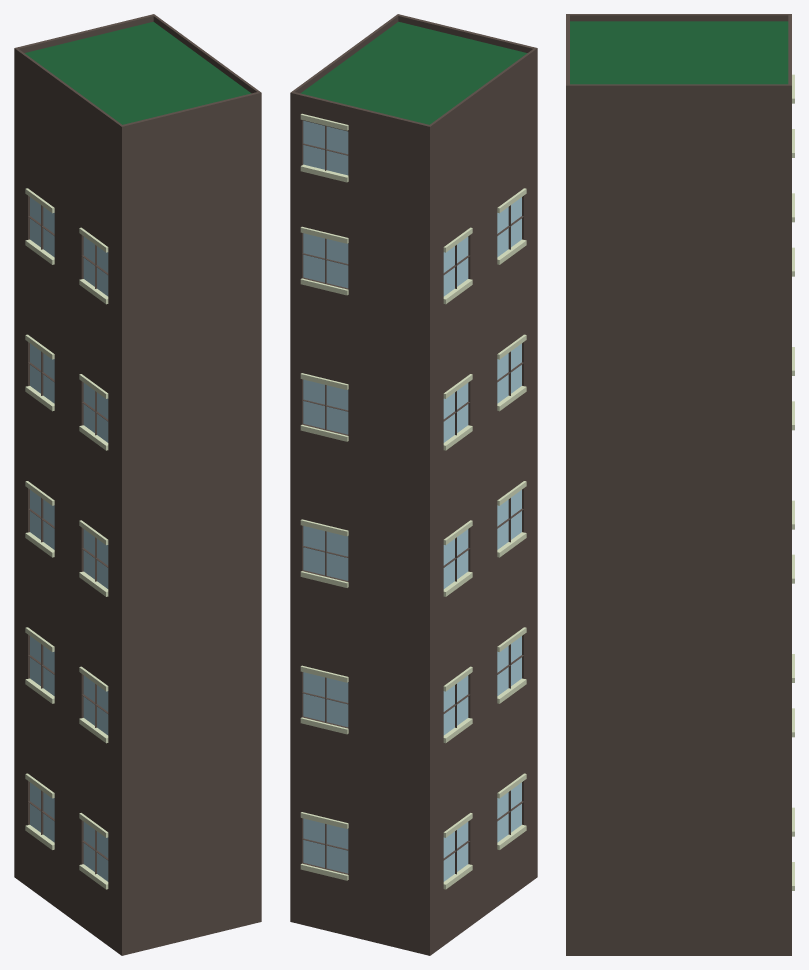
File: 5building_9_L.glb
3 renders of one model, left to right at view 1: azimuth 30°, elevation 25°; view 2: azimuth 150°, elevation 25°; view 3: azimuth 270°, elevation 25°, orthographic. The views are drawn at different scales.
Visible parts, largest first — view 1: 5ho_L; view 2: 5ho_L; view 3: 5ho_L.
Part boxes in pixels (bbox=[...]): 5ho_L: bbox=[14, 14, 261, 955]; 5ho_L: bbox=[290, 14, 537, 955]; 5ho_L: bbox=[566, 14, 794, 955].
Bounding box in the file's own units: 30.5 × 170 × 40.5.
